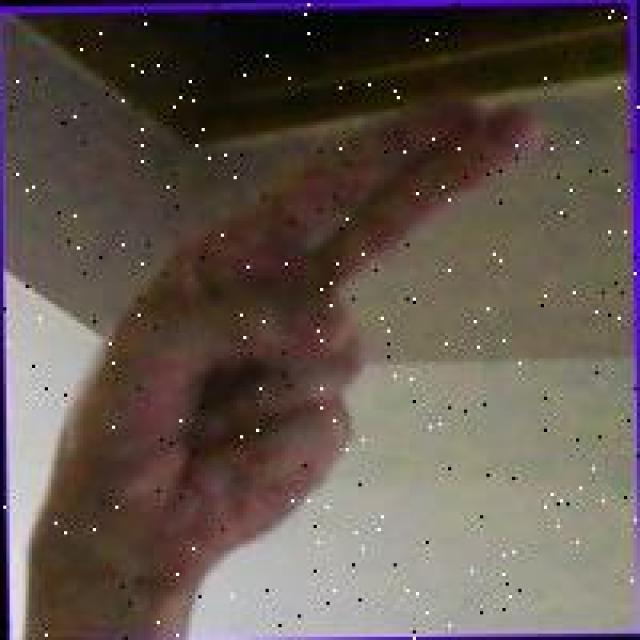H: (43, 82, 549, 587)
